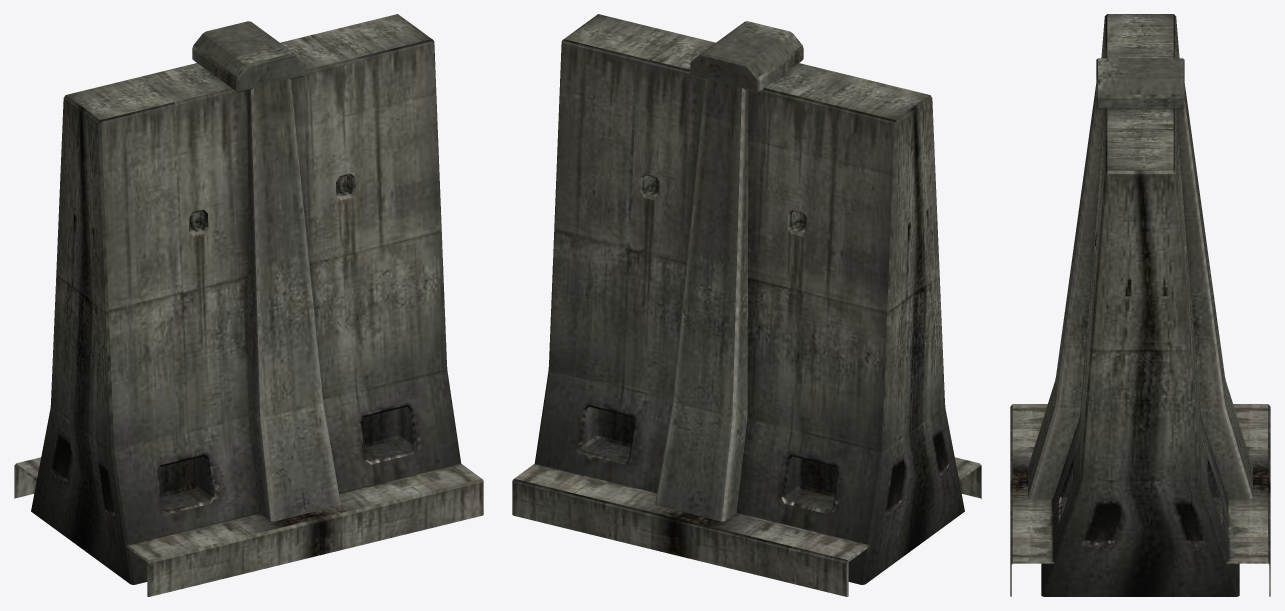
Rendered from stone-wall-ew.glb.
The picture shows the model from 3 angles, left to right: view 1: azimuth 30°, elevation 25°; view 2: azimuth 150°, elevation 25°; view 3: azimuth 270°, elevation 25°; orthographic projection. The views are drawn at different scales.
Visible parts, largest first — view 1: body; view 2: body; view 3: body.
Part boxes in pixels (x1,y1,x2,y2): body: [14, 14, 483, 596]; body: [512, 14, 981, 596]; body: [1010, 14, 1270, 596].
Size of the model in its own units: 1 by 1.32 by 0.6932.
Materials: 1 (1 with a texture image).
